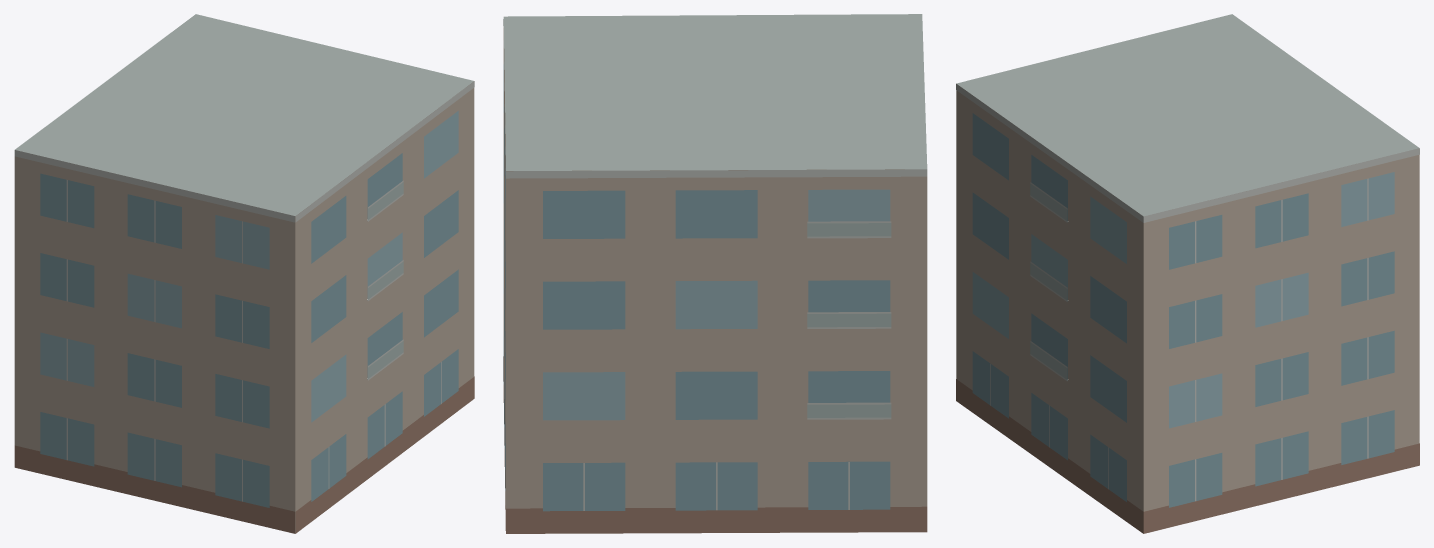
The model's file is survey-upis-32507935.glb.
3 renders of one model, left to right at view 1: azimuth 30°, elevation 25°; view 2: azimuth 150°, elevation 25°; view 3: azimuth 270°, elevation 25°, orthographic. The views are drawn at different scales.
Visible parts, largest first — view 1: survey-upis-32507935.tmp; view 2: survey-upis-32507935.tmp; view 3: survey-upis-32507935.tmp.
Part boxes in pixels (bbox=[...]): survey-upis-32507935.tmp: bbox=[14, 14, 474, 533]; survey-upis-32507935.tmp: bbox=[503, 14, 927, 533]; survey-upis-32507935.tmp: bbox=[956, 14, 1419, 533].
Bounding box in the file's own units: 16.29 × 11.9 × 15.76.
